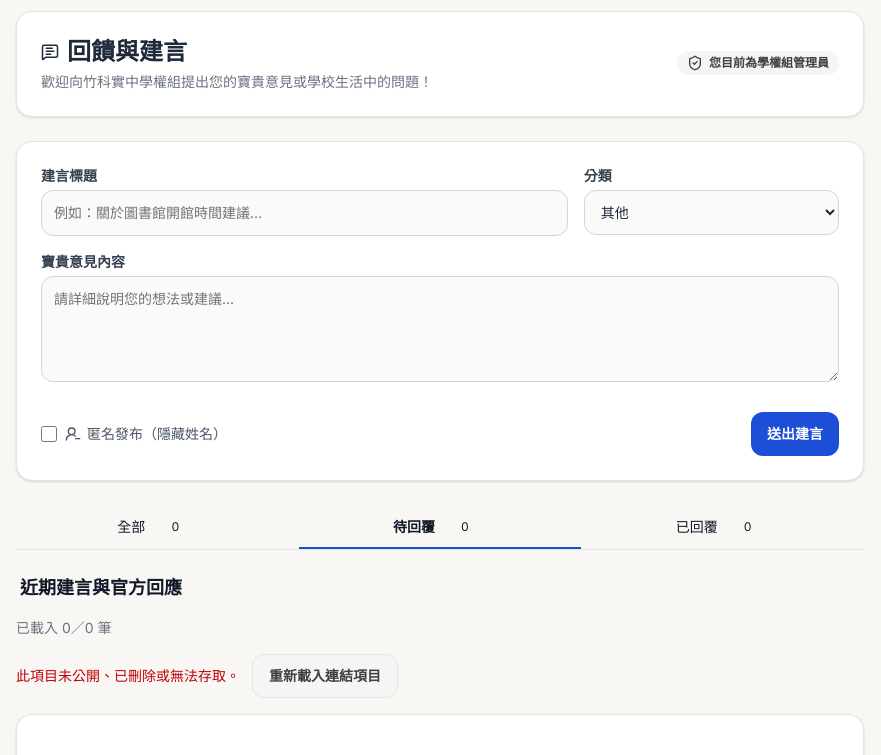
Test: keeps the linked-message behavior when search navigation and 全部 both have no rows
Check: the message "此項目未公開、已刪除或無法存取。" is shown, box [16,666,240,686]
Click the tab "全部 0" at point(131, 526), box [16,505,299,549]
(page scrolled)
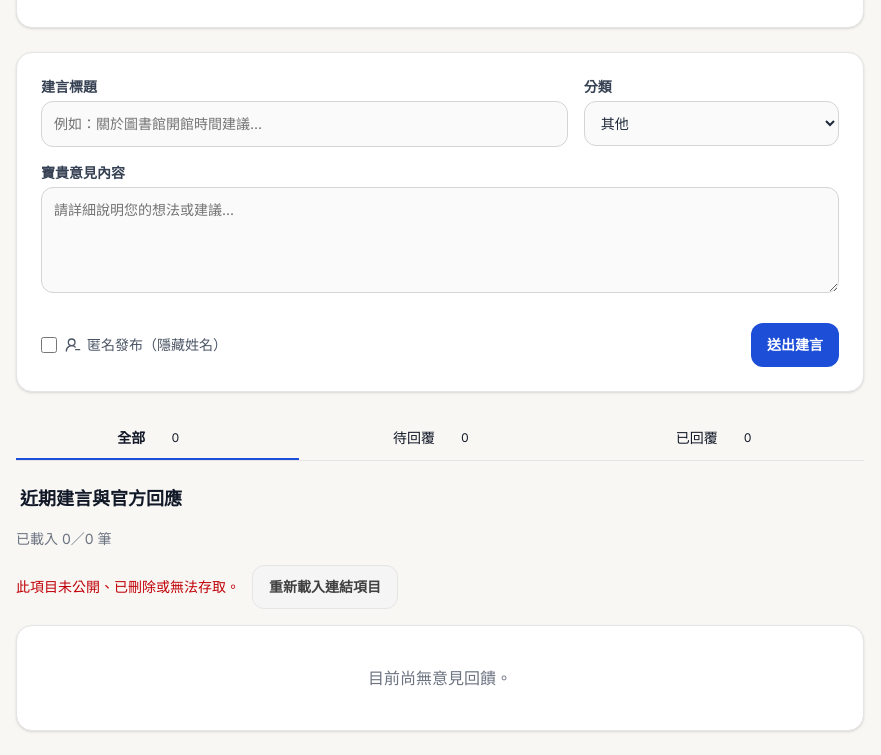
Check: the message reads "此項目未公開、已刪除或無法存取。", box [16,578,240,595]
Check: the text "目前尚無意見回饋。" is shown, box [368,668,512,688]
